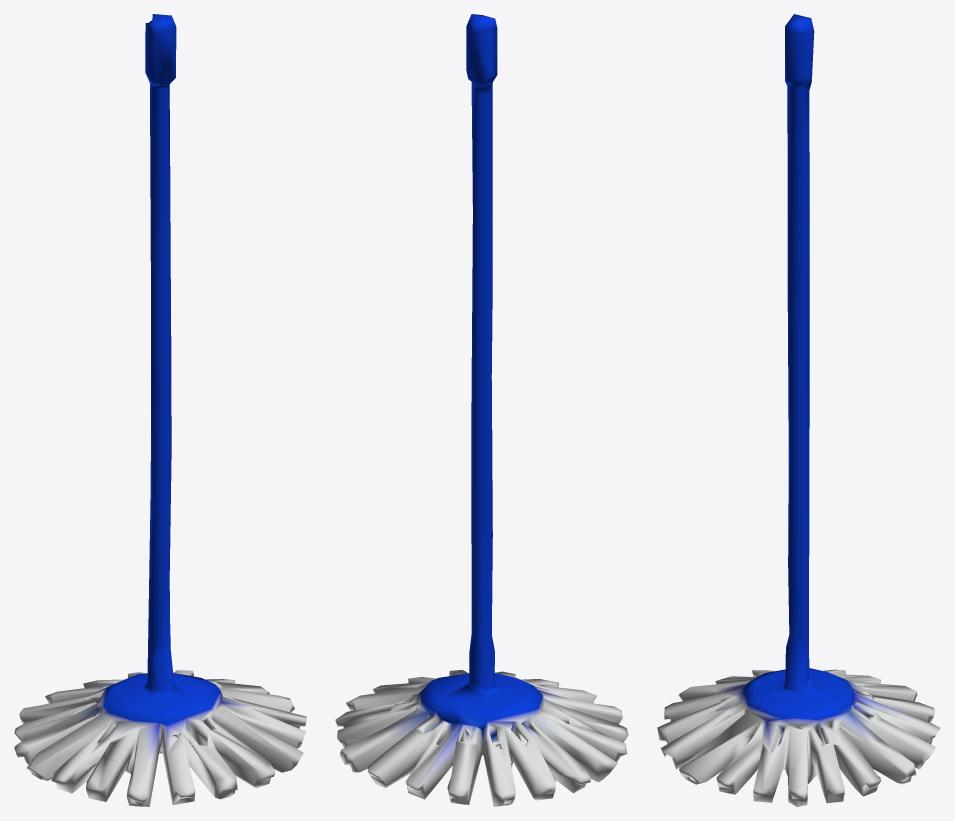
Rendered from gen3d-mop-lod1.glb.
The picture shows the model from 3 angles, left to right: view 1: azimuth 30°, elevation 25°; view 2: azimuth 150°, elevation 25°; view 3: azimuth 270°, elevation 25°; orthographic projection.
Visible parts, largest first — view 1: part_0; view 2: part_0; view 3: part_0.
Part boxes in pixels (box(x1,y1,x2,y2)): part_0: box(14, 14, 306, 806); part_0: box(335, 14, 628, 806); part_0: box(657, 14, 940, 806).
Bounding box in the file's own units: 0.3794 × 0.9992 × 0.352.
